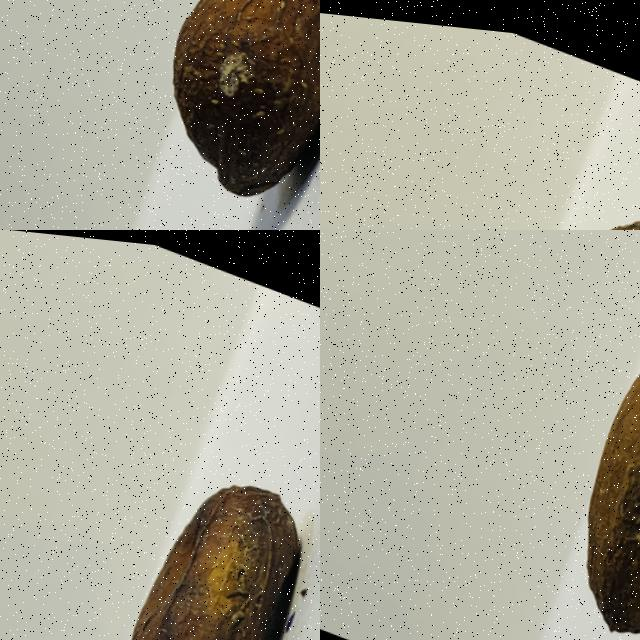Fine_cocoabeans: (59, 402, 319, 639), (112, 0, 319, 229), (527, 233, 639, 639), (452, 124, 639, 229)
